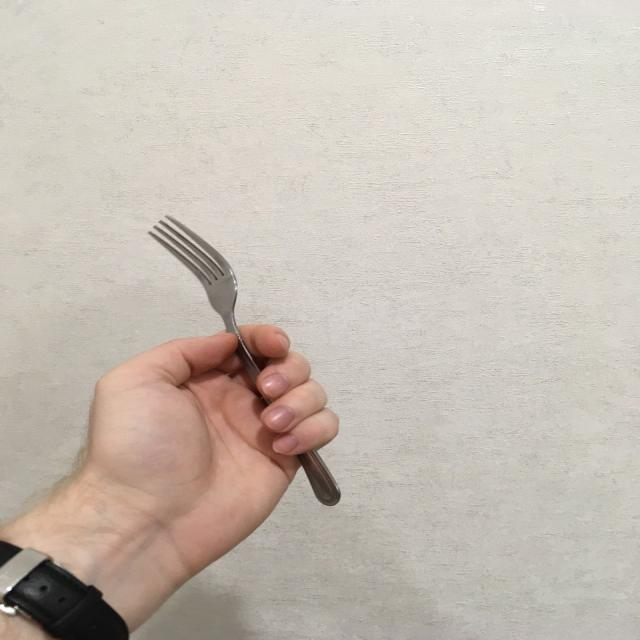fork: (144, 215, 340, 505)
